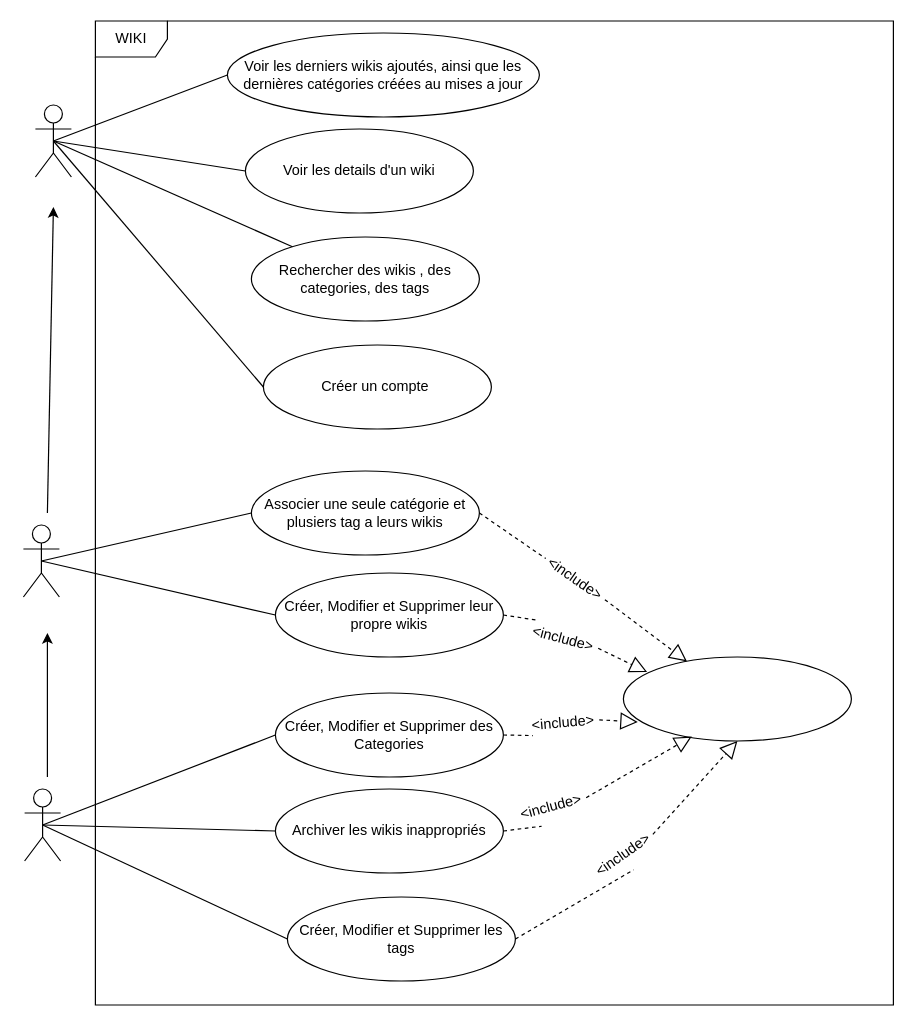
The diagram is 914 pixels wide and 1026 high, and some of its shapes have lost their labels. Each missing label, with the box of its shape:
admin: (23, 788, 61, 861)
auteur: (22, 524, 59, 597)
authentification: (622, 656, 851, 741)
visiteur: (34, 104, 71, 177)
